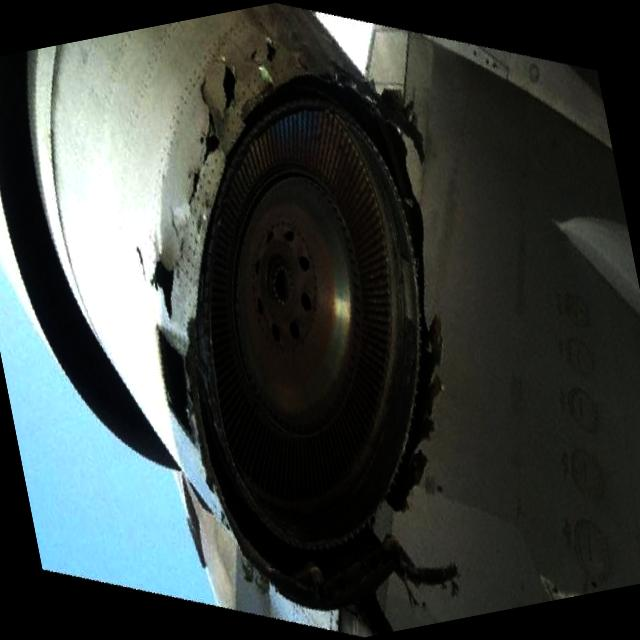crack: (96, 38, 324, 332)
